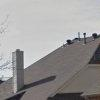Chimney: (4, 43, 31, 99)
